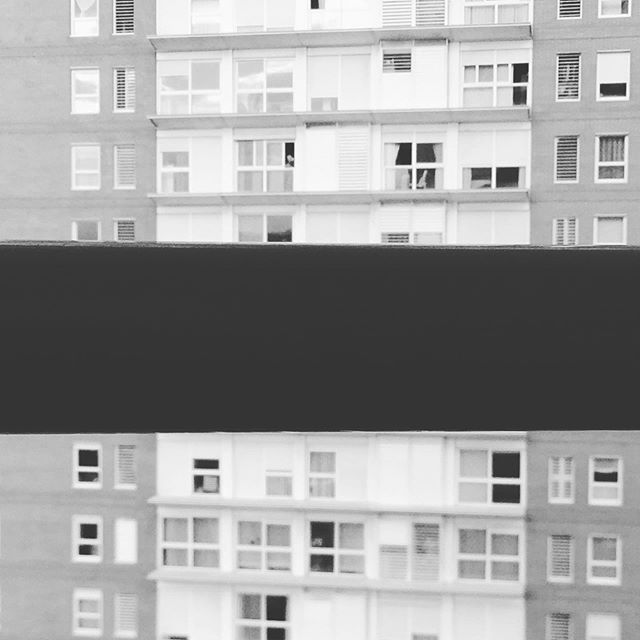building: (1, 1, 639, 638)
